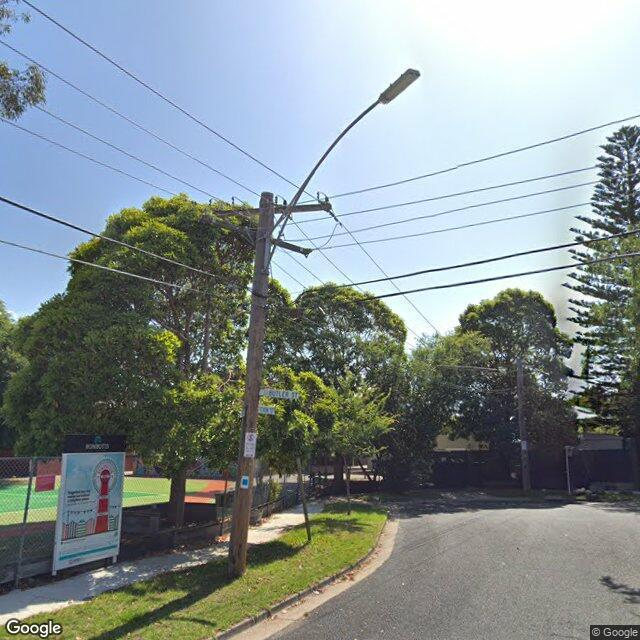crossarm: (208, 191, 342, 226), (272, 236, 312, 258)
streetlight: (265, 67, 422, 271)
timber-pole: (226, 192, 274, 575)
